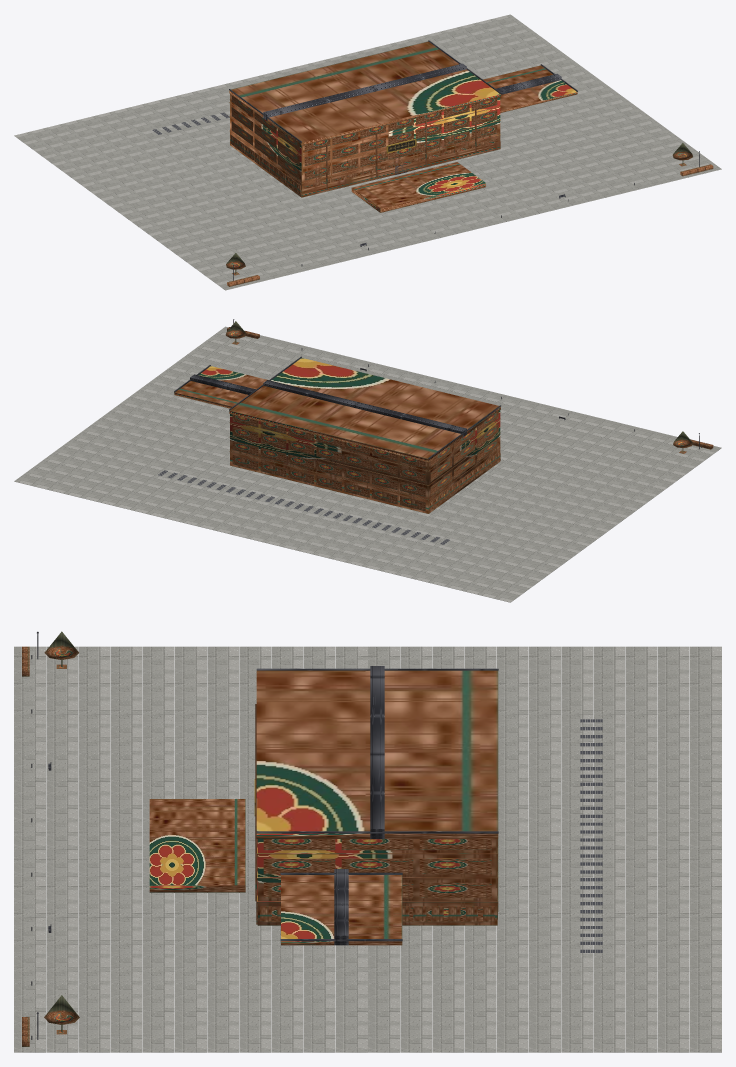
The picture shows the model from 3 angles, top to bottom: view 1: azimuth 30°, elevation 25°; view 2: azimuth 150°, elevation 25°; view 3: azimuth 270°, elevation 25°; orthographic projection. The views are drawn at different scales.
Parts seen in each view (by area): view 1: 11710_01_05540_016_01__plinth_ground_base, 11710_01_05540_016_02__mass_body_facade, 11710_01_05540_016_03__roof_metal_ornament, 11710_01_05540_016_06__landscape_greenery, 11710_01_05540_016_05__window_sash_glass; view 2: 11710_01_05540_016_01__plinth_ground_base, 11710_01_05540_016_02__mass_body_facade, 11710_01_05540_016_03__roof_metal_ornament, 11710_01_05540_016_03__roof_deck_structure, 11710_01_05540_016_06__landscape_greenery; view 3: 11710_01_05540_016_01__plinth_ground_base, 11710_01_05540_016_02__mass_body_facade, 11710_01_05540_016_03__roof_metal_ornament, 11710_01_05540_016_03__roof_deck_structure, 11710_01_05540_016_06__landscape_greenery.
Boxes of the visible parts, bbox=[...] form: 11710_01_05540_016_01__plinth_ground_base: bbox=[14, 14, 721, 290]; 11710_01_05540_016_02__mass_body_facade: bbox=[229, 41, 577, 212]; 11710_01_05540_016_03__roof_metal_ornament: bbox=[229, 40, 577, 142]; 11710_01_05540_016_06__landscape_greenery: bbox=[226, 143, 713, 286]; 11710_01_05540_016_05__window_sash_glass: bbox=[315, 126, 487, 186]; 11710_01_05540_016_01__plinth_ground_base: bbox=[14, 326, 721, 602]; 11710_01_05540_016_02__mass_body_facade: bbox=[174, 358, 500, 513]; 11710_01_05540_016_03__roof_metal_ornament: bbox=[174, 356, 501, 458]; 11710_01_05540_016_03__roof_deck_structure: bbox=[158, 470, 449, 544]; 11710_01_05540_016_06__landscape_greenery: bbox=[225, 321, 713, 453]; 11710_01_05540_016_01__plinth_ground_base: bbox=[14, 646, 721, 1052]; 11710_01_05540_016_02__mass_body_facade: bbox=[149, 670, 498, 945]; 11710_01_05540_016_03__roof_metal_ornament: bbox=[256, 666, 498, 945]; 11710_01_05540_016_03__roof_deck_structure: bbox=[580, 719, 602, 952]; 11710_01_05540_016_06__landscape_greenery: bbox=[22, 631, 79, 1046].
Bounding box in the file's own units: 160 × 18.8 × 118.
7 materials, 7 textured.
